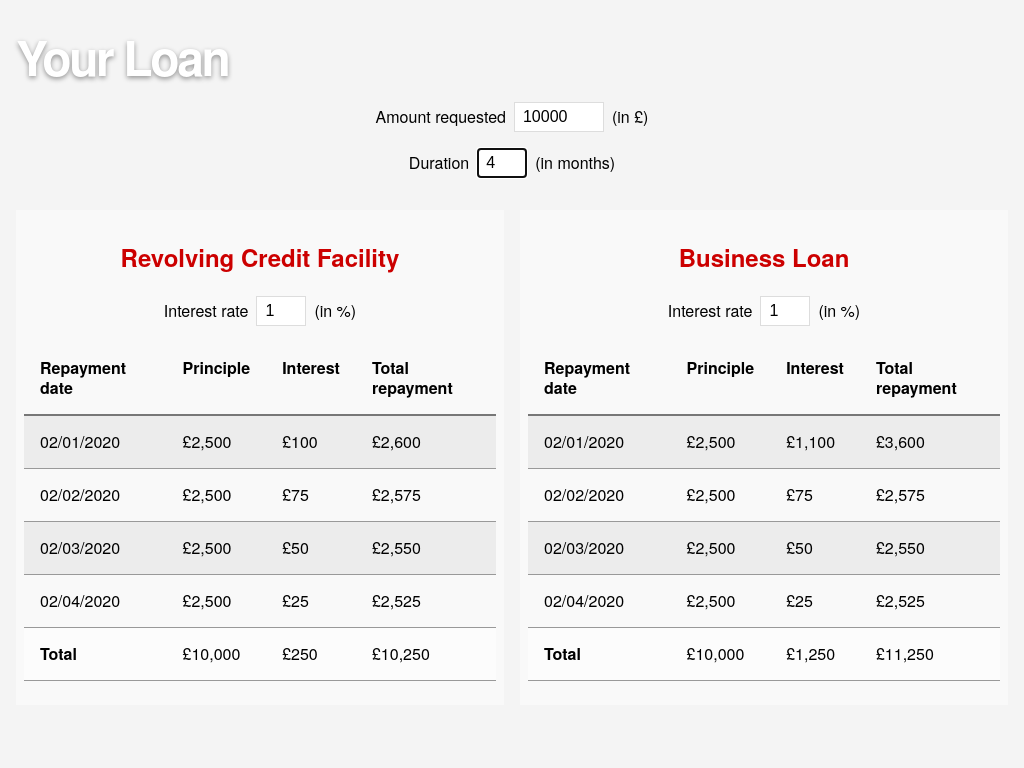
Test: Loan Calculator App › Calculates totals for Revolving Credit Facility
Replace the text in the number field with id "revolving-credit-facility-interest-rate" with "3". click: [281, 311]
box: [256,296,306,326]
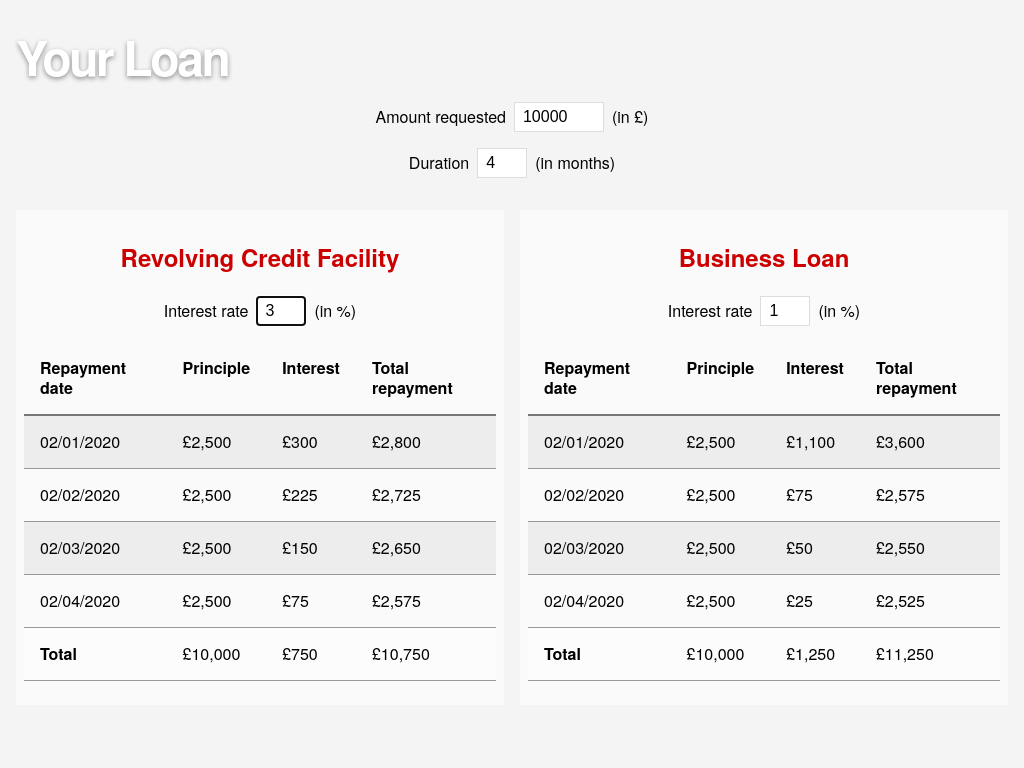
Expected: the text "£10,000" next to "£750" is shown, [183,642,241,665]
Result: the text "£750" is shown at [266,627,356,680]
Result: the text "£10,750" is shown at [356,627,496,680]
Replace the text in the number field with id "revolving-credit-facility-interest-rate" with "10". click: [281, 311]
box: [256,296,306,326]
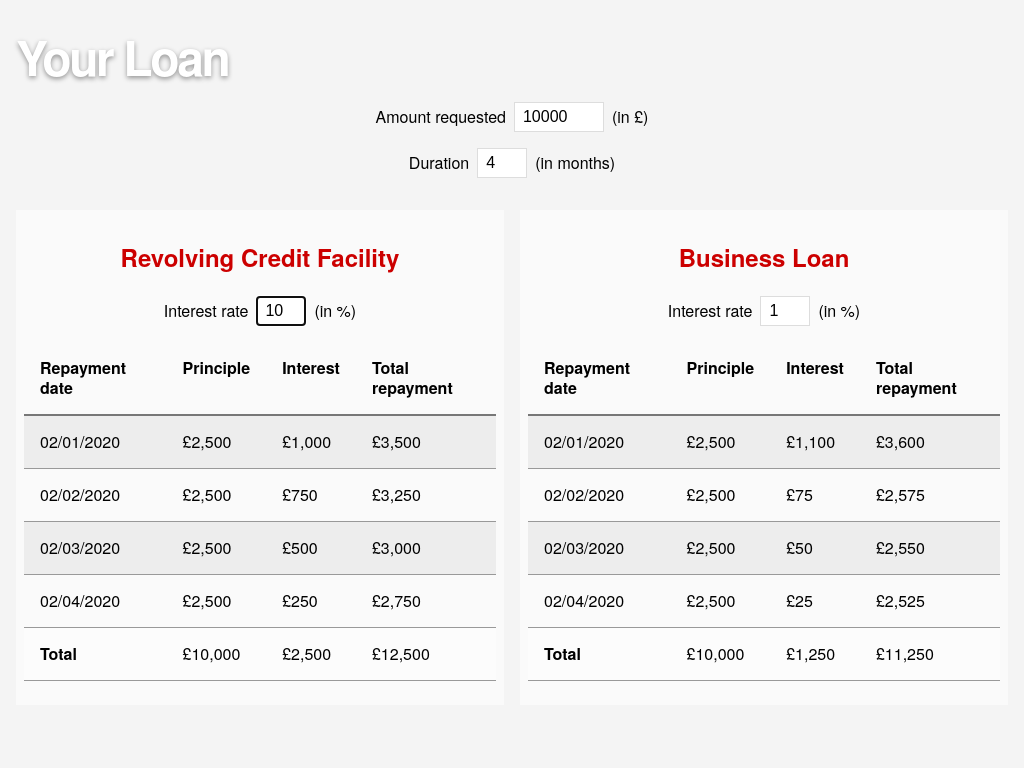
Expected: the text "£10,000" in the row of "£12,500" is shown, [183,642,241,665]
Result: the text "£2,500" next to "£12,500" is shown at [282,642,331,665]
Result: the text "£12,500" is shown at [356,627,496,680]
